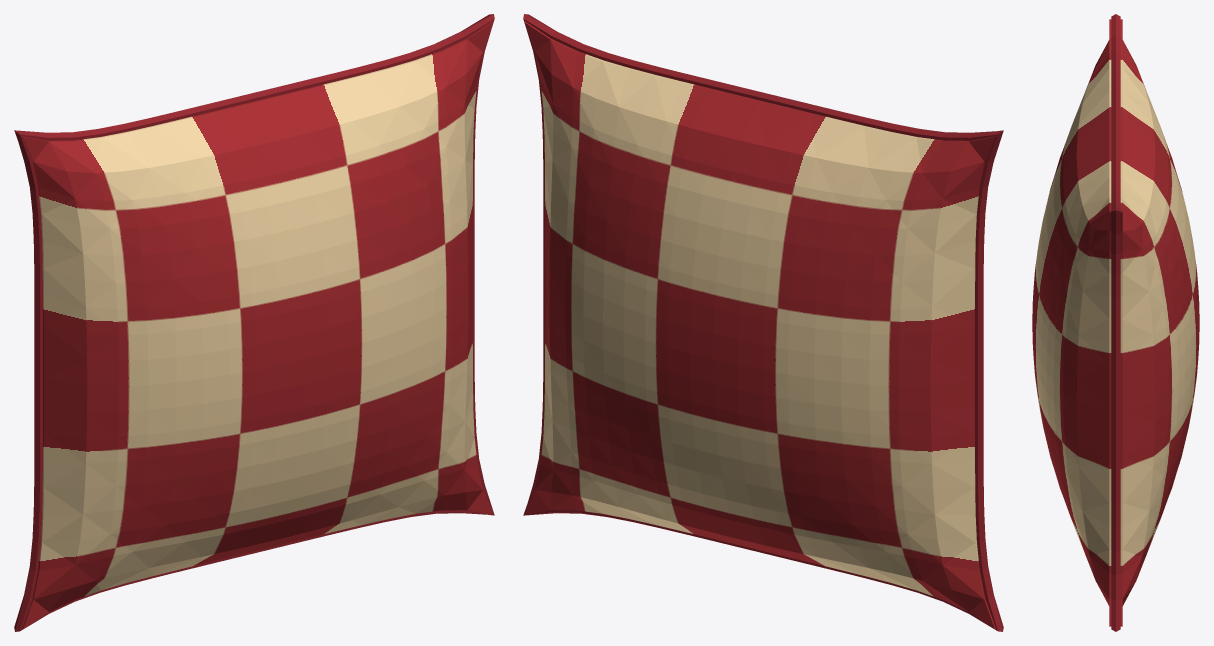
Rendered from 21 Plaid Cushion.glb.
3 views of the same model, side by side, from view 1: azimuth 30°, elevation 25°; view 2: azimuth 150°, elevation 25°; view 3: azimuth 270°, elevation 25° (orthographic). The views are drawn at different scales.
Visible parts, largest first — view 1: Full stuffed faceted pillow, Continuous raised perimeter piping; view 2: Full stuffed faceted pillow, Continuous raised perimeter piping; view 3: Full stuffed faceted pillow, Continuous raised perimeter piping.
Boxes of the visible parts, x1,y1,x2,y2 form: Full stuffed faceted pillow: (22,21,493,629); Continuous raised perimeter piping: (14,14,494,631); Full stuffed faceted pillow: (524,21,995,629); Continuous raised perimeter piping: (523,14,1003,631); Full stuffed faceted pillow: (1032,19,1199,626); Continuous raised perimeter piping: (1111,14,1120,631).
Size of the model in its own units: 3.19 by 3.19 by 1.15.
Materials: 2 (1 with a texture image).
